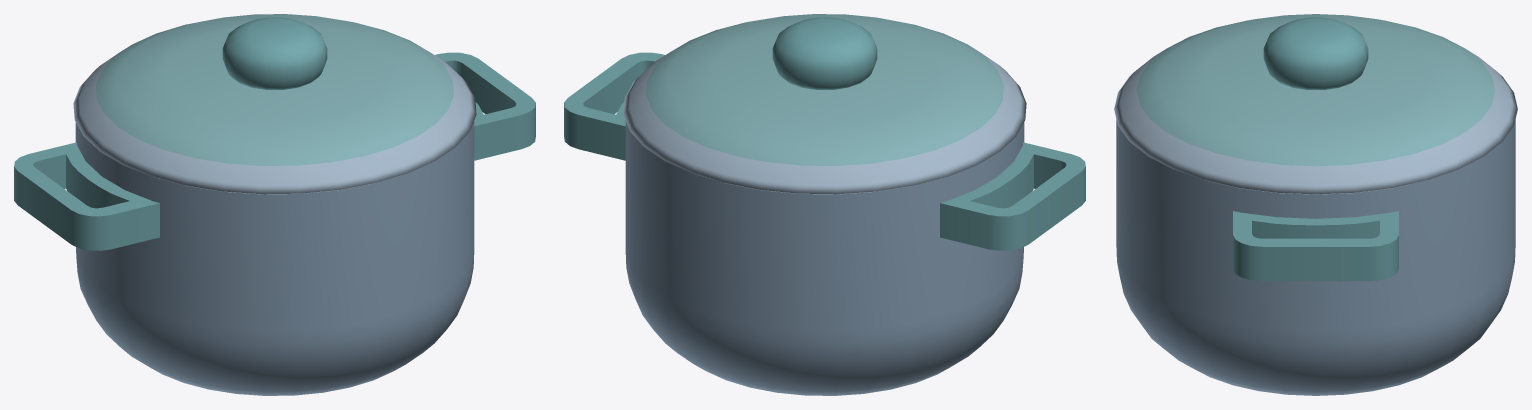
The model's file is Pot A.fbx.
3 renders of one model, left to right at view 1: azimuth 30°, elevation 25°; view 2: azimuth 150°, elevation 25°; view 3: azimuth 270°, elevation 25°, orthographic.
Parts seen in each view (by area): view 1: Pot, Pot.001; view 2: Pot, Pot.001; view 3: Pot, Pot.001.
Boxes of the visible parts, left/top/right/bottom form: Pot: left=14, top=52, right=535, bottom=395; Pot.001: left=73, top=14, right=476, bottom=194; Pot: left=564, top=52, right=1085, bottom=395; Pot.001: left=623, top=14, right=1026, bottom=194; Pot: left=1116, top=119, right=1515, bottom=395; Pot.001: left=1114, top=14, right=1517, bottom=194.
Size of the model in its own units: 0.6859 by 0.4312 by 0.5209.
